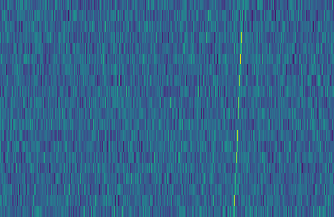signal: (230, 0, 249, 217)
